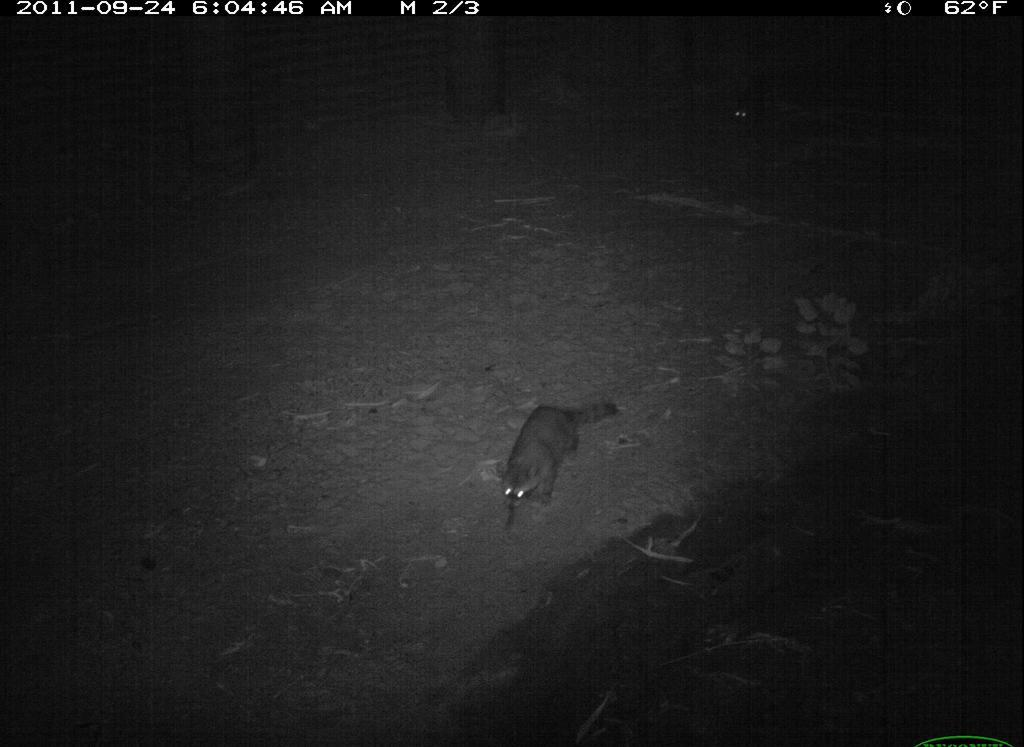raccoon: (488, 390, 629, 533)
